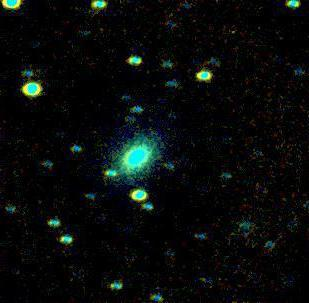star: (121, 120, 151, 150)
